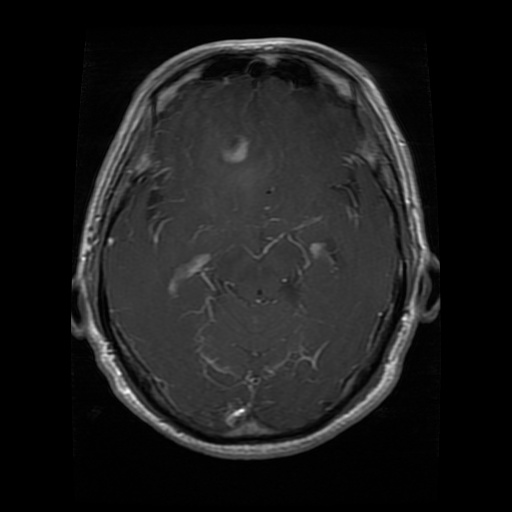glioma: (201, 239, 305, 378)
